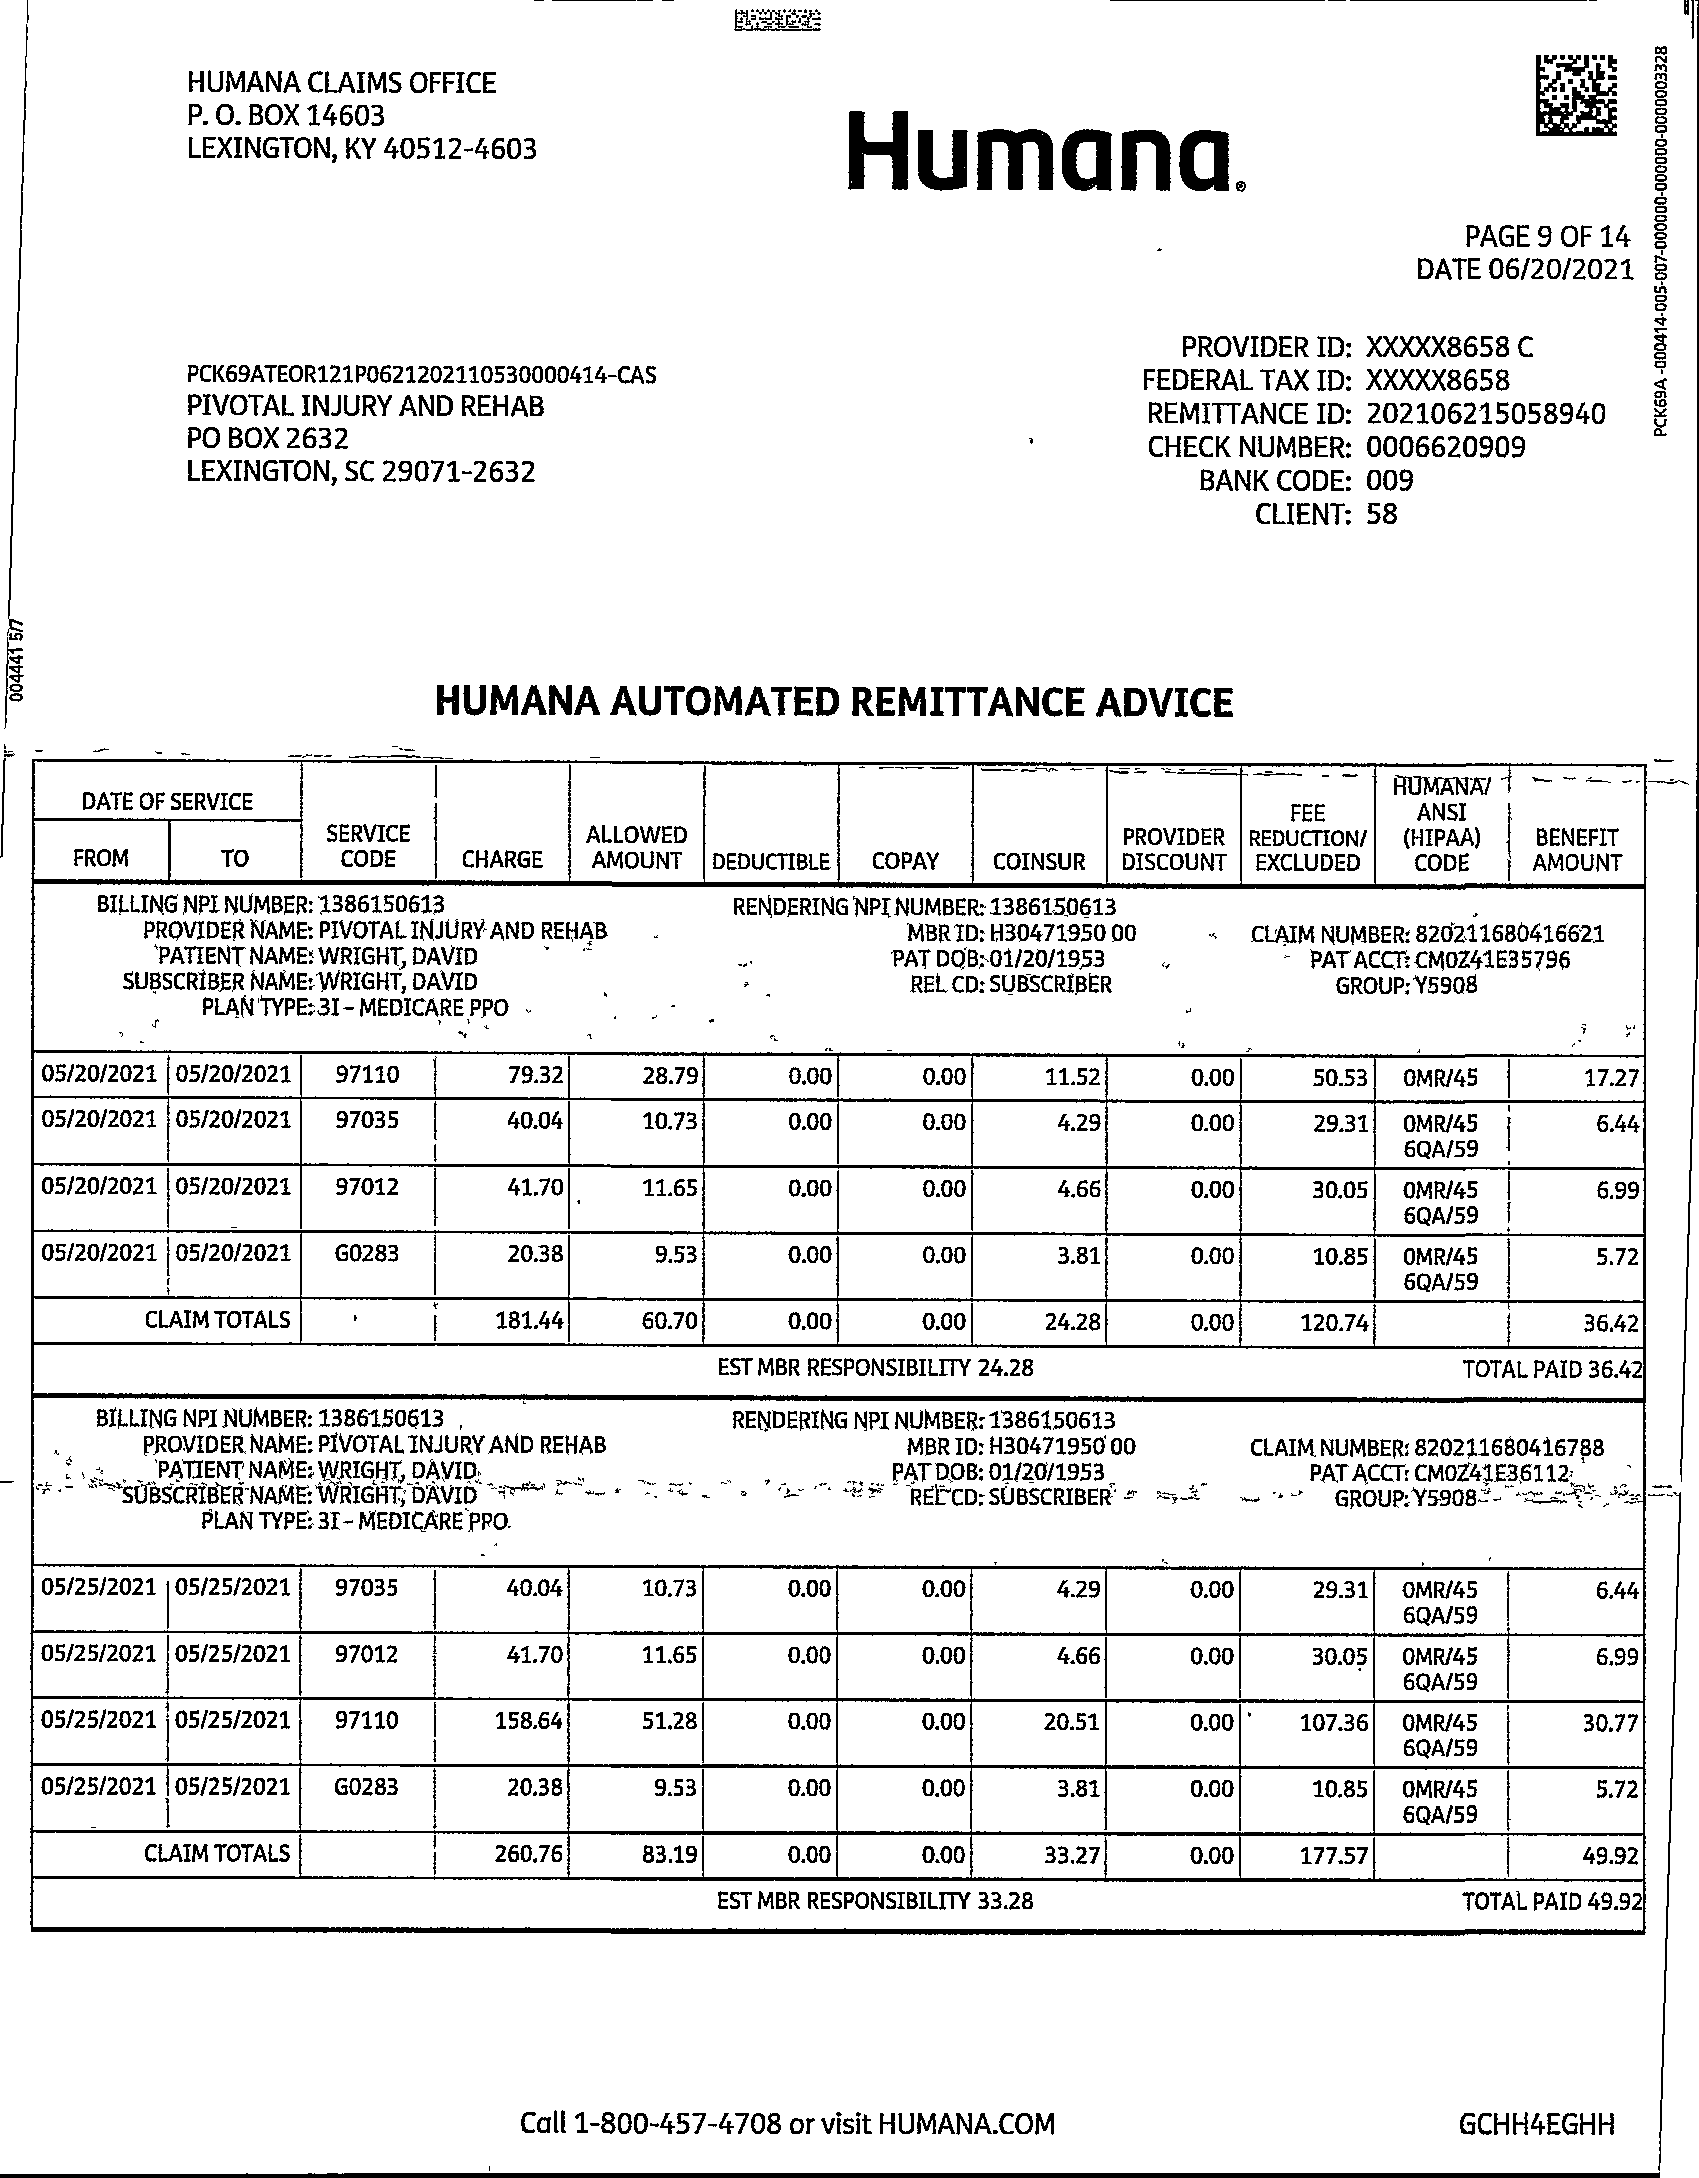data: (1117, 313, 1619, 562), (166, 318, 682, 514), (140, 27, 590, 200)
table: (21, 735, 1658, 1420), (18, 1377, 1662, 1952)
